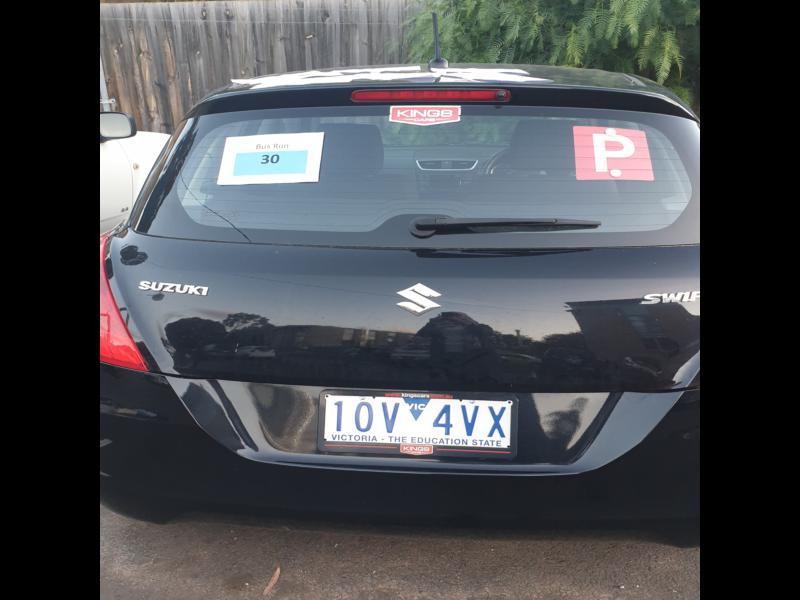BusRun: (235, 149, 311, 174)
PlateNo: (321, 391, 513, 450)
